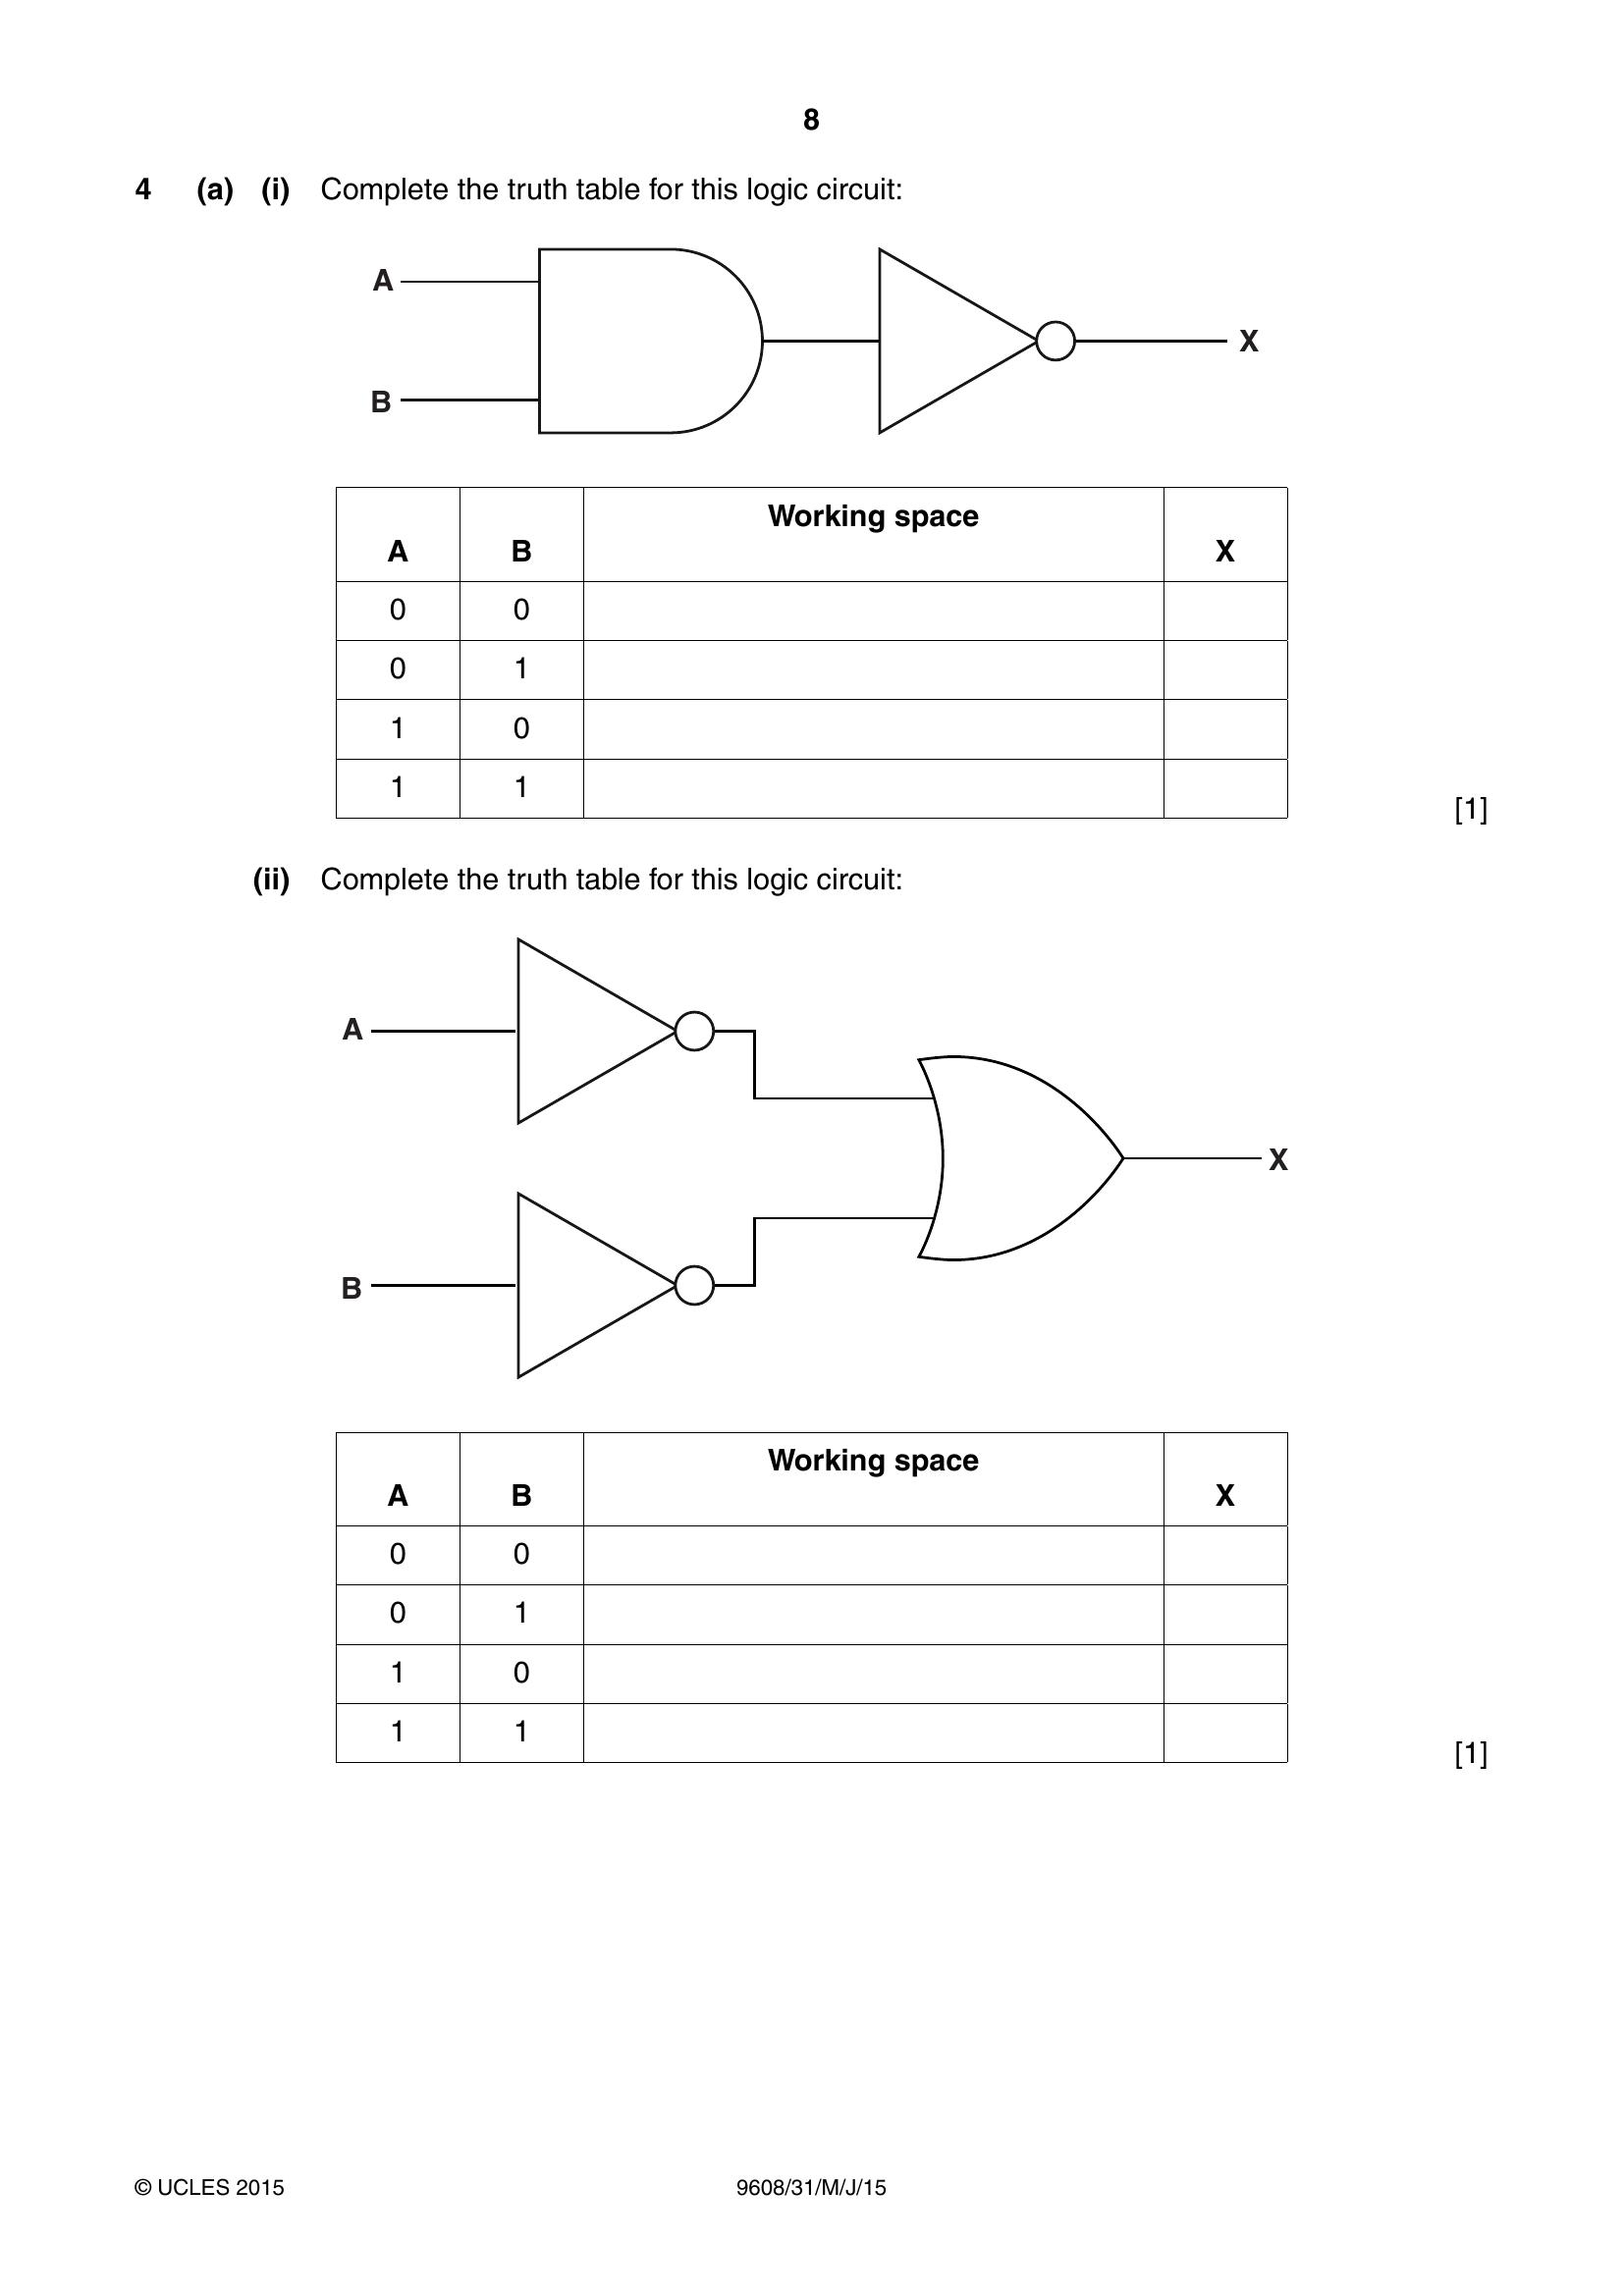question: (12, 156, 1624, 1867)
